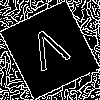V: (25, 24, 77, 81)
